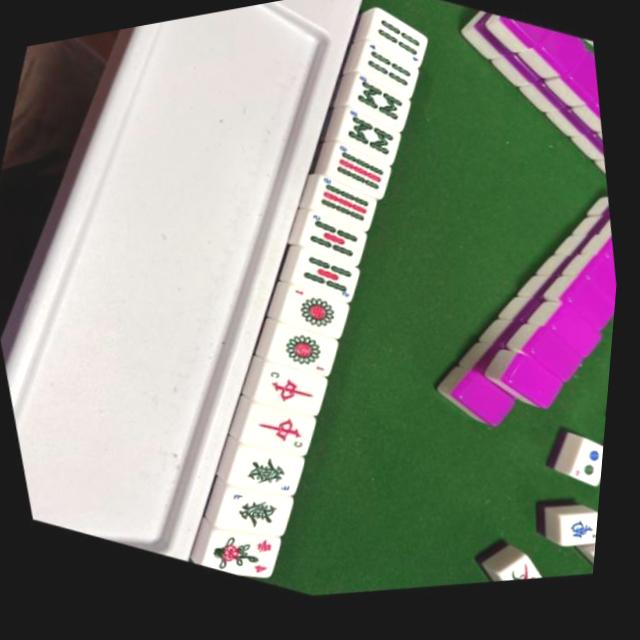bs4: (195, 524, 287, 605)
hdg: (218, 488, 296, 554), (231, 449, 307, 515)
hdr: (252, 362, 332, 431), (241, 403, 320, 472)
sb4: (358, 5, 440, 77), (351, 36, 429, 104)
sb5: (288, 248, 367, 316), (295, 210, 372, 277)
sb8: (338, 67, 420, 139), (330, 105, 411, 176)
sb9: (303, 171, 386, 243), (321, 137, 402, 209)
sd1: (278, 283, 359, 354), (267, 323, 344, 392)
